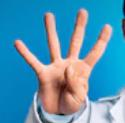right: (13, 6, 114, 114)
